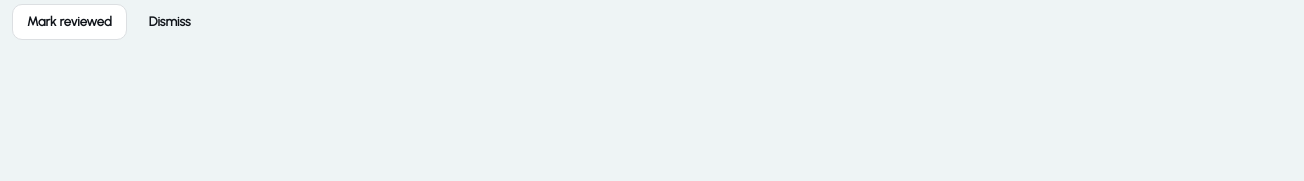
Test: requires a reason to dismiss and surfaces the server message on failure
Later steps or results of the test are not shown.
Click the button with aria-label "Dismiss pattern" at (170, 22), box [135,4,205,40]
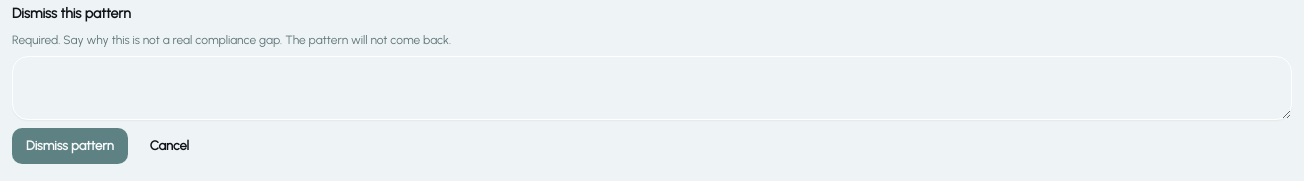
Now the button "Dismiss pattern" is disabled, box [12,128,128,164]
Type "Template changed" into the text box labelled "Dismiss this pattern" at (652, 88), box [12,56,1292,120]
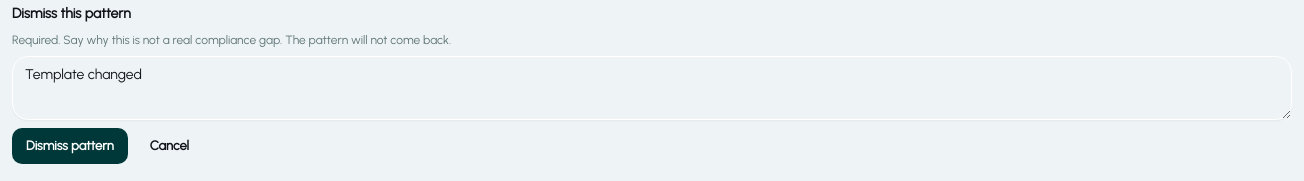
Now the button "Dismiss pattern" is enabled, box [12,128,128,164]
